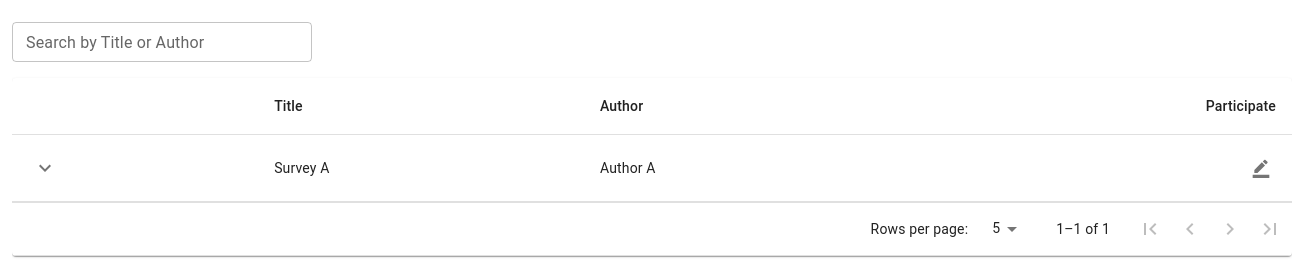
Test: Public Surveys - exists › Dont show survey on bad search
Expected: the text "Survey A" is shown, [258,134,584,202]
Type "Survey B" into the field labelled "Search by Title or Author" at (162, 42), box [12,22,312,62]
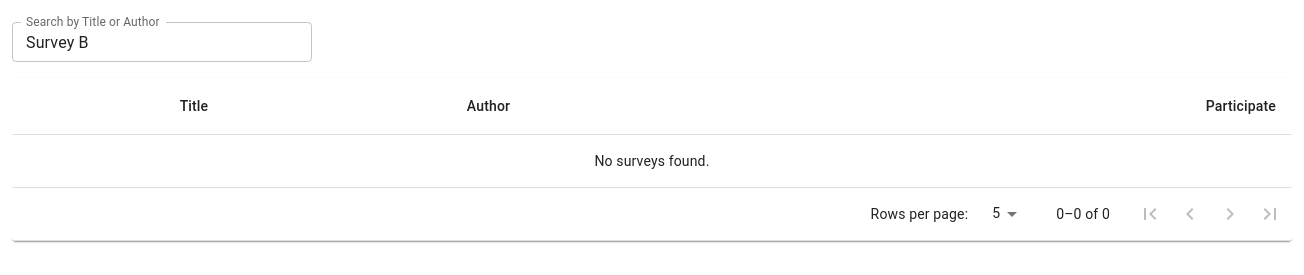
Expected: the text "Survey A" is gone
